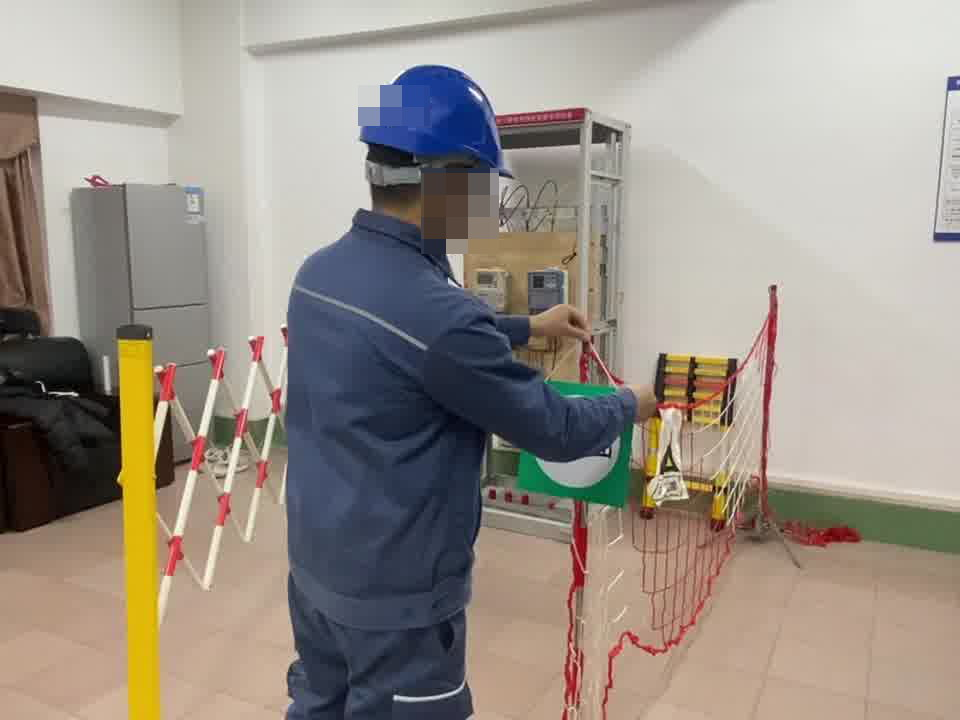downsuit: (284, 573, 474, 720)
halt: (352, 67, 511, 255)
hand: (529, 295, 590, 350), (634, 377, 658, 425)
inear: (420, 156, 481, 245)
intosign: (516, 372, 636, 510)
person: (253, 64, 658, 720)
upsuit: (270, 208, 636, 633)
